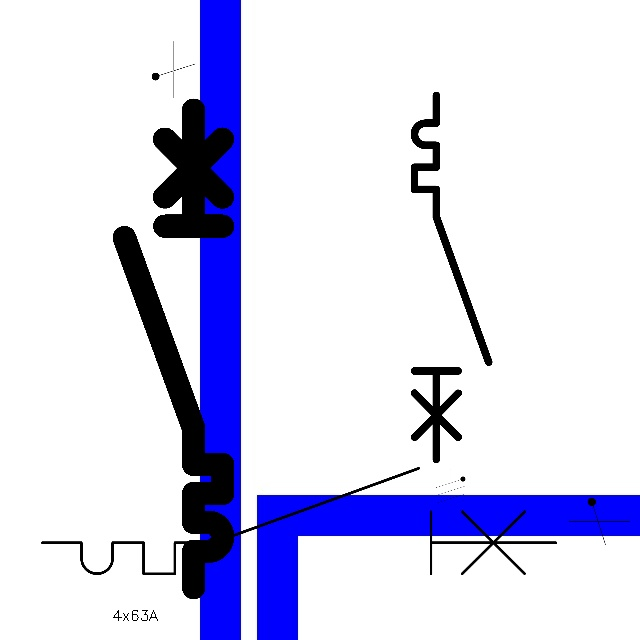interruptor_termomagnetico: (29, 455, 569, 587), (112, 97, 235, 599), (405, 86, 498, 468)
